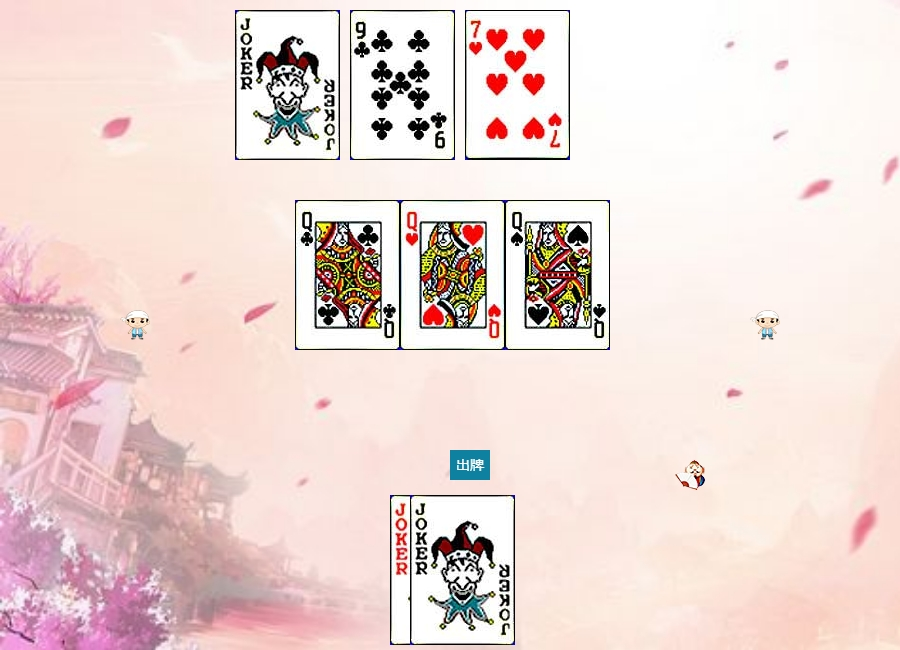12~2: (295, 200, 400, 350)
12~3: (400, 200, 505, 350)
12~4: (505, 200, 610, 350)
17~3: (235, 10, 340, 160), (410, 495, 515, 645)
18~4: (390, 495, 495, 645)
7~3: (465, 10, 570, 160)
9~2: (350, 10, 455, 160)
